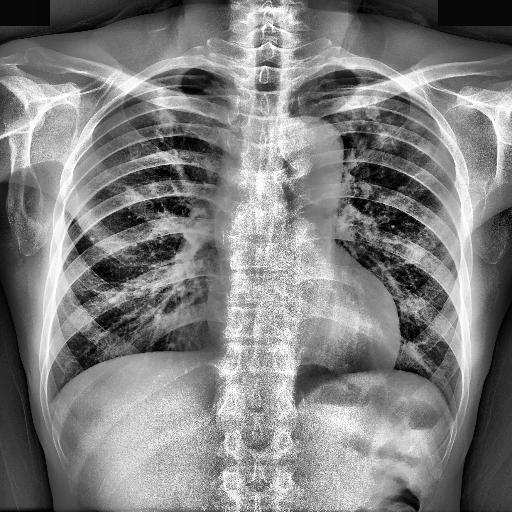0- Aortic enlargement: (268, 118, 344, 200), (279, 118, 344, 192), (284, 116, 344, 164)
13- Pulmonary fibrosis: (328, 80, 433, 154), (344, 83, 438, 157), (332, 88, 430, 156), (133, 80, 181, 150), (139, 82, 184, 136), (145, 90, 174, 128)
